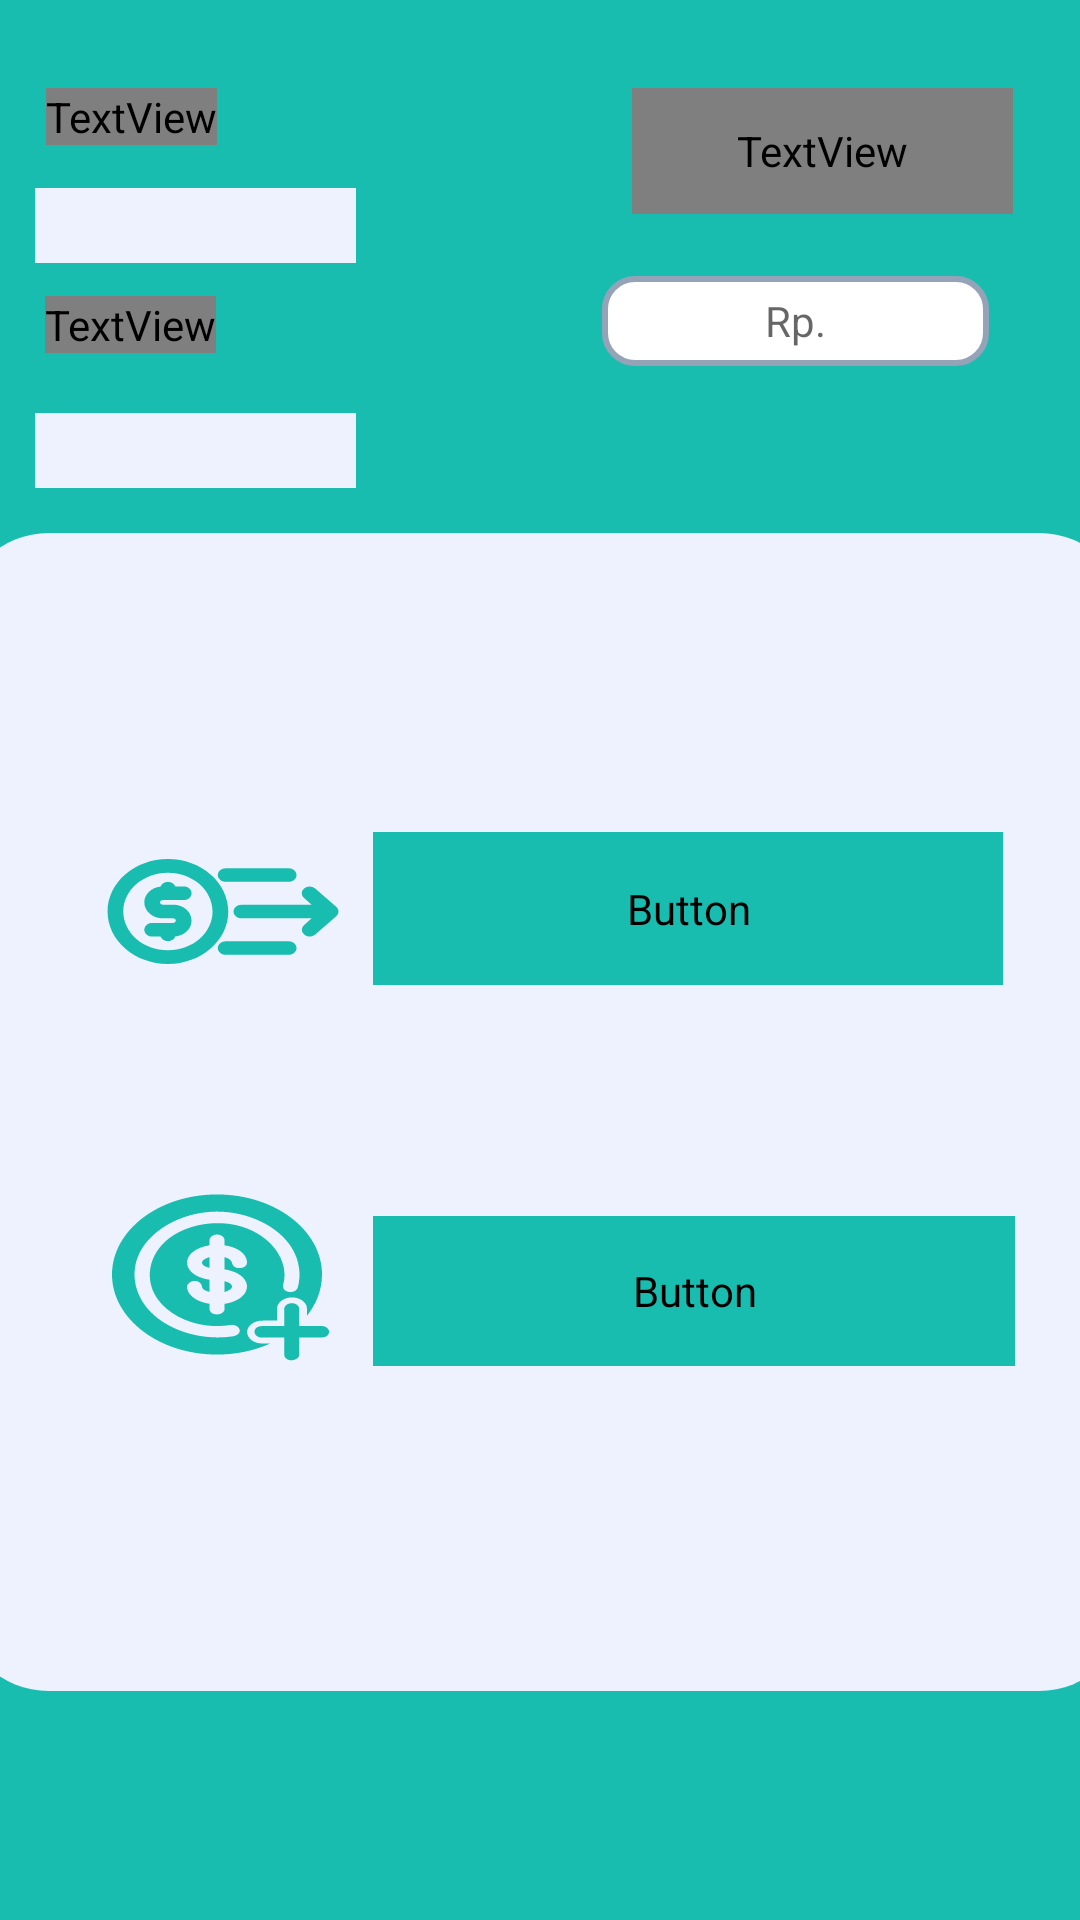

Screen size 1080 × 1920. Icon name, then its box in pixels as box=[x1, y1, x2, y2]:
pemasukan: box=[112, 1194, 329, 1361]
pengeluaran: box=[107, 859, 339, 964]
